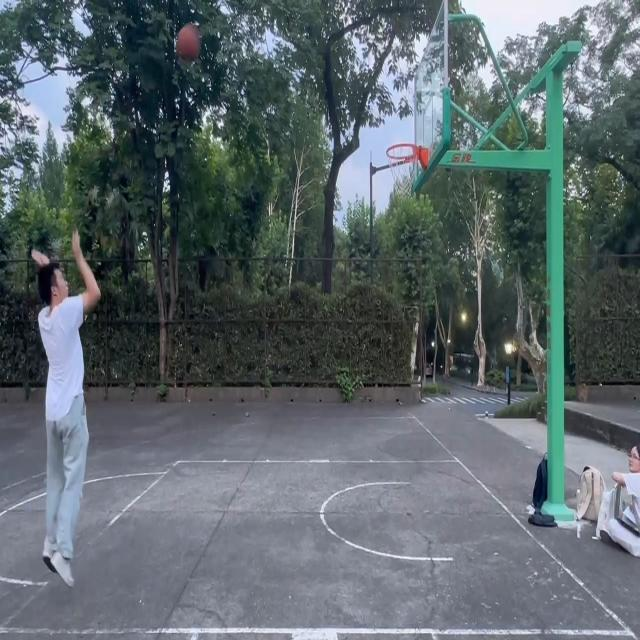basketball: (384, 144, 432, 196)
rim: (177, 24, 200, 61)
